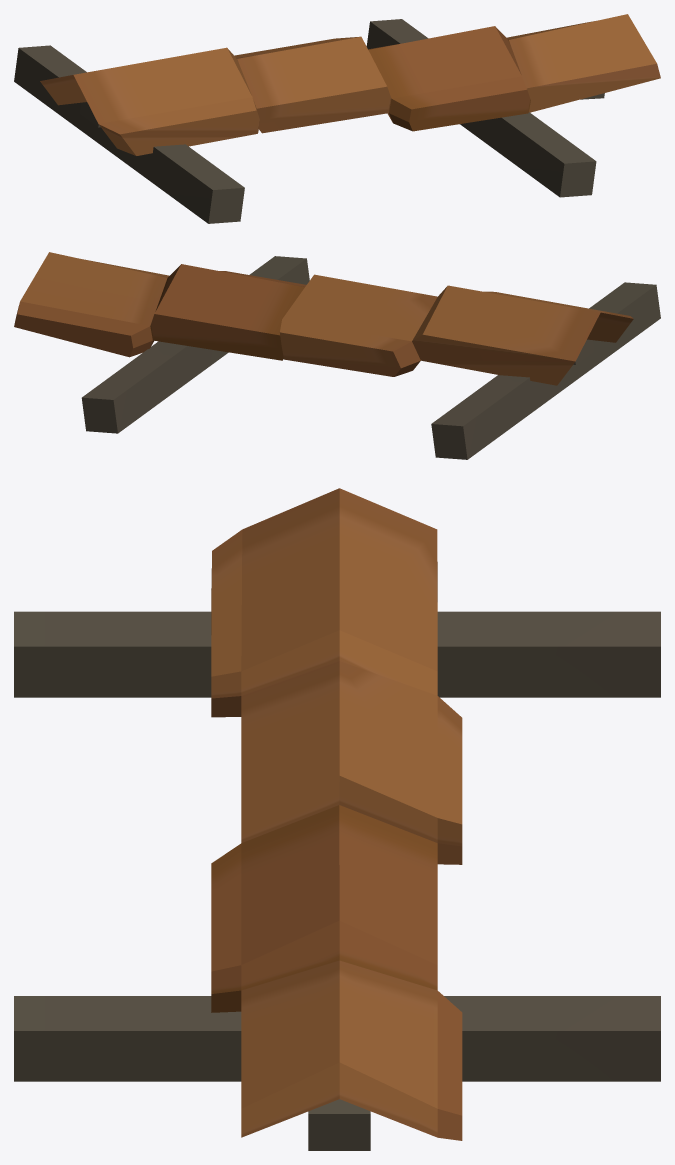
Rendered from kingdom_SM_Bld_House_Roof_Tile_Cover_Edge_02.gltf.
The picture shows the model from 3 angles, top to bottom: view 1: azimuth 30°, elevation 25°; view 2: azimuth 150°, elevation 25°; view 3: azimuth 270°, elevation 25°; orthographic projection. The views are drawn at different scales.
Visible parts, largest first — view 1: SM_Bld_House_Roof_Tile_Cover_Edge_02; view 2: SM_Bld_House_Roof_Tile_Cover_Edge_02; view 3: SM_Bld_House_Roof_Tile_Cover_Edge_02.
Part boxes in pixels (box(x1,y1,x2,y2)): SM_Bld_House_Roof_Tile_Cover_Edge_02: box(14, 14, 660, 223); SM_Bld_House_Roof_Tile_Cover_Edge_02: box(14, 252, 660, 459); SM_Bld_House_Roof_Tile_Cover_Edge_02: box(14, 488, 660, 1150).
Bounding box in the file's own units: 2.45 × 0.6244 × 1.45.
Materials: 1 (1 with a texture image).
